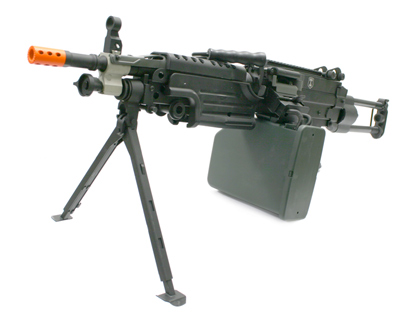rifle: (15, 10, 394, 308)
